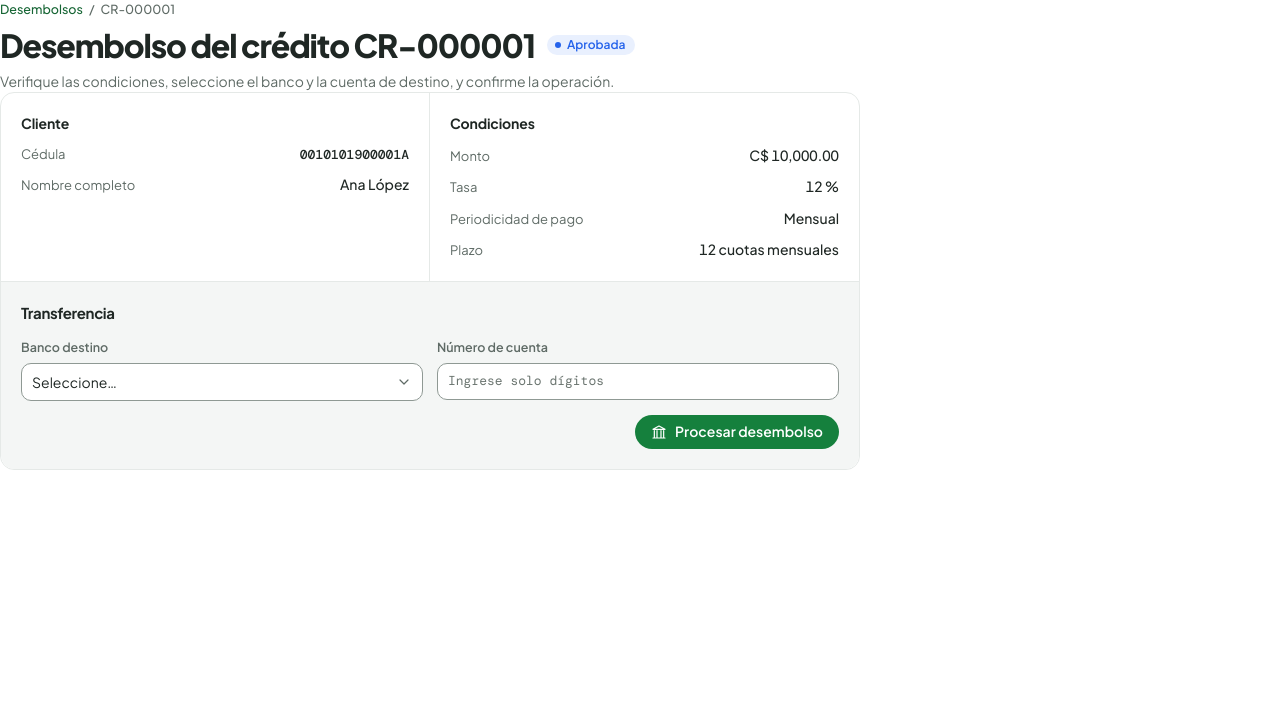
Test: DesembolsoPage › muestra el error 400 de numeroCuenta o bancoId junto al campo, no en un toast
Select "LAFISE" in the dropdown labelled "Banco destino" at (222, 382), box [21,363,423,401]
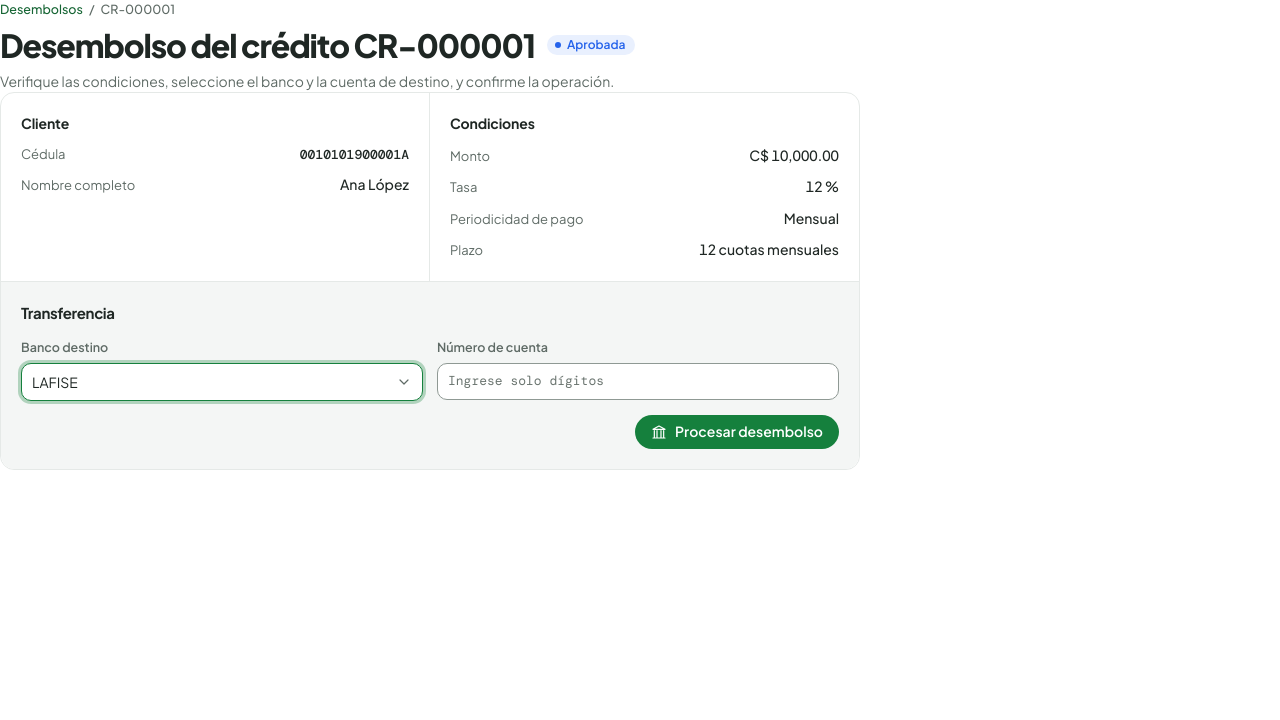
Type "1002003004" into the field labelled "Número de cuenta".
click(638, 381); type("1002003004")  # box [437,363,839,400]
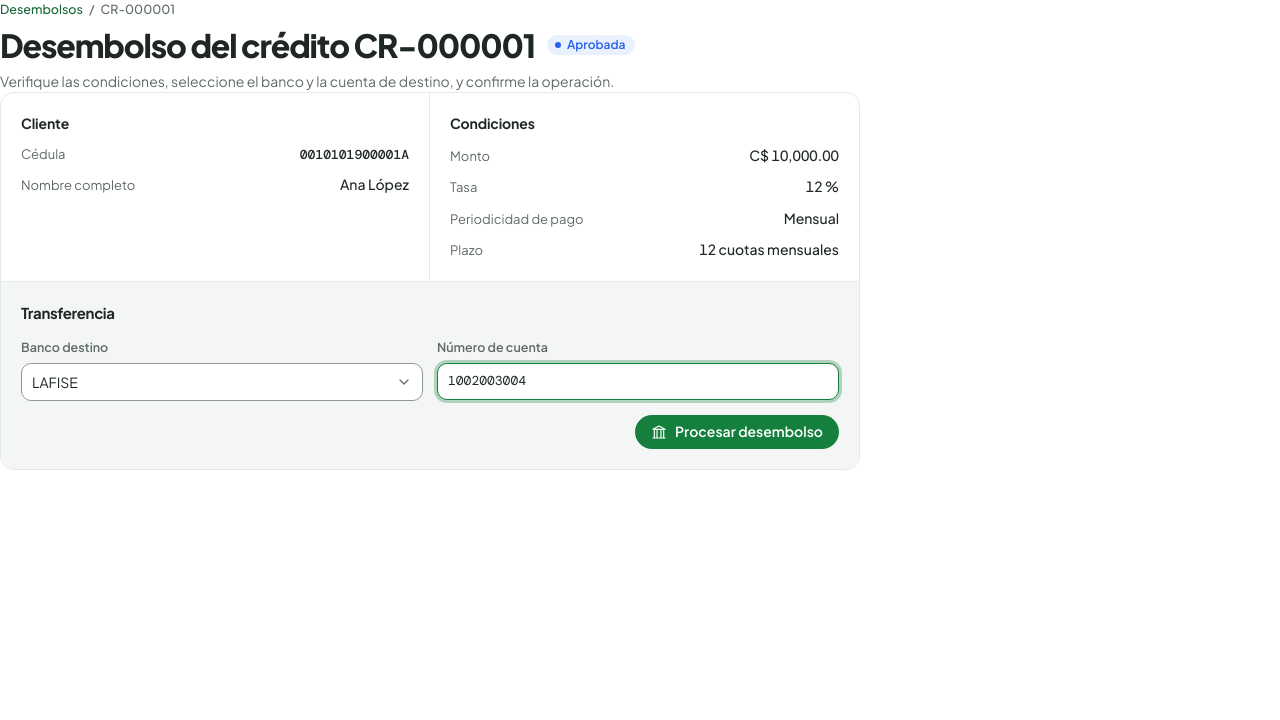
Click the button "Procesar desembolso".
click(737, 432)  # box [635,415,839,448]
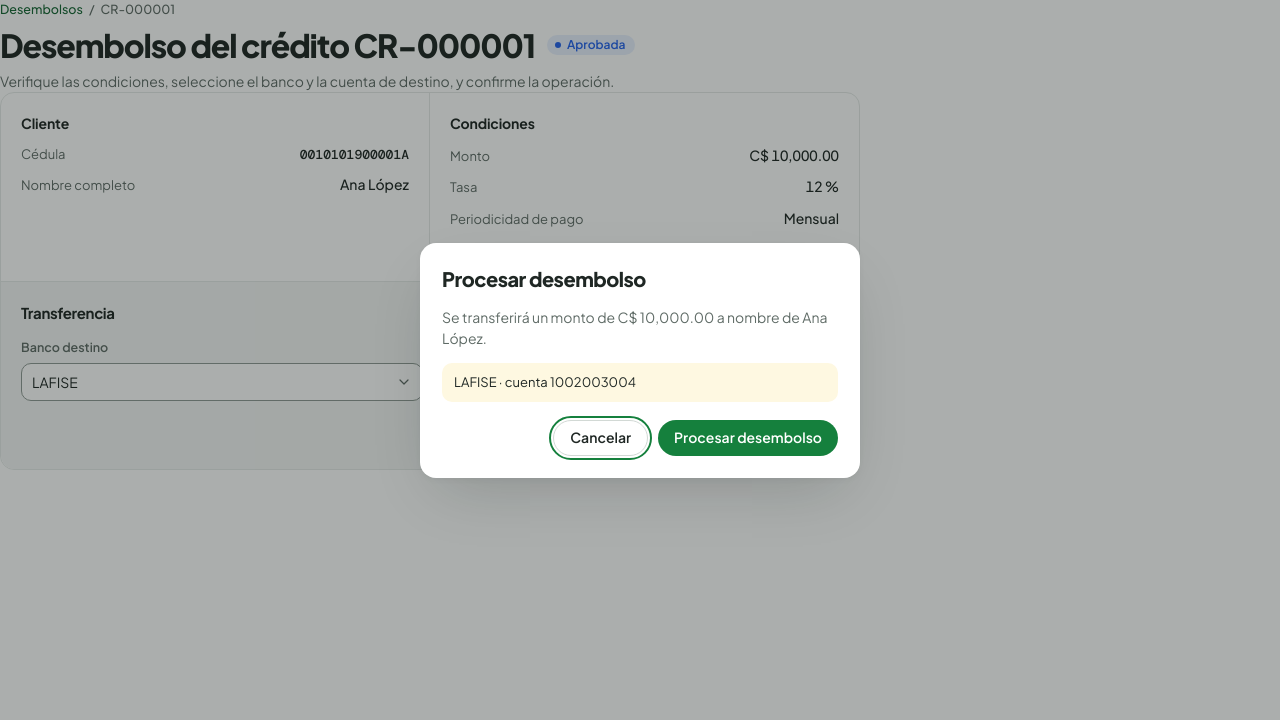
Click the button "Procesar desembolso".
click(748, 438)  # box [658,420,838,456]
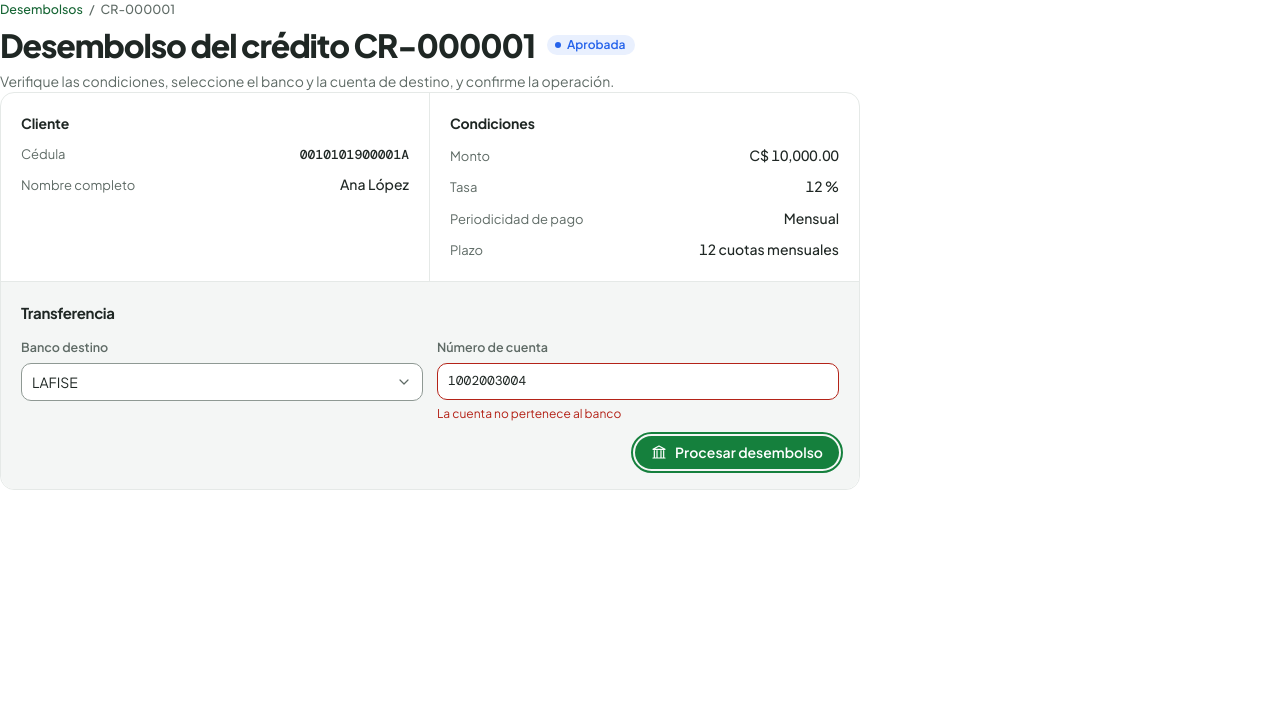
Expected: the text "La cuenta no pertenece al banco" is shown, [437,406,621,421]
